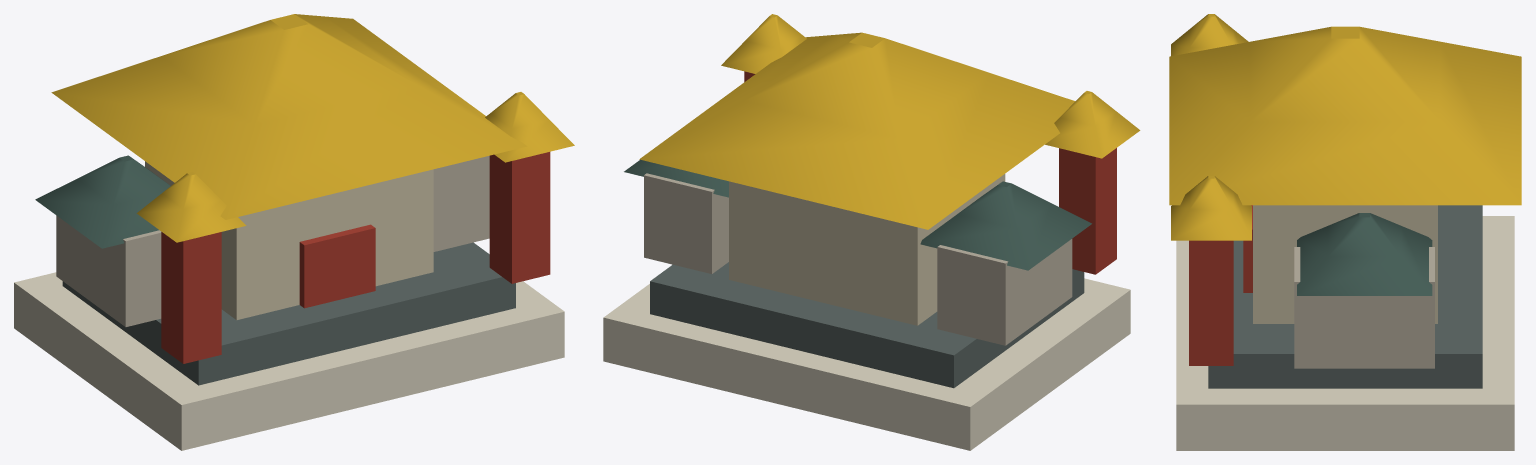
The model's file is wang_chao_di_du.glb.
The picture shows the model from 3 angles, left to right: view 1: azimuth 30°, elevation 25°; view 2: azimuth 150°, elevation 25°; view 3: azimuth 270°, elevation 25°; orthographic projection. The views are drawn at different scales.
Visible parts, largest first — view 1: _MeshInstance3D_128, _MeshInstance3D_125, _MeshInstance3D_126, _MeshInstance3D_127, _MeshInstance3D_129, _MeshInstance3D_135, _MeshInstance3D_131, _MeshInstance3D_130, _MeshInstance3D_137, _MeshInstance3D_133, _MeshInstance3D_132, _MeshInstance3D_136; view 2: _MeshInstance3D_128, _MeshInstance3D_125, _MeshInstance3D_127, _MeshInstance3D_126, _MeshInstance3D_129, _MeshInstance3D_130, _MeshInstance3D_133, _MeshInstance3D_131, _MeshInstance3D_132, _MeshInstance3D_136, _MeshInstance3D_134; view 3: _MeshInstance3D_128, _MeshInstance3D_125, _MeshInstance3D_126, _MeshInstance3D_133, _MeshInstance3D_134, _MeshInstance3D_127, _MeshInstance3D_135, _MeshInstance3D_136, _MeshInstance3D_132, _MeshInstance3D_137.
Boxes of the visible parts, x1=… form: _MeshInstance3D_128: x1=51, y1=14, x2=527, y2=219; _MeshInstance3D_125: x1=14, y1=272, x2=564, y2=450; _MeshInstance3D_126: x1=62, y1=242, x2=515, y2=385; _MeshInstance3D_127: x1=145, y1=161, x2=433, y2=320; _MeshInstance3D_129: x1=56, y1=215, x2=161, y2=326; _MeshInstance3D_135: x1=489, y1=152, x2=550, y2=283; _MeshInstance3D_131: x1=161, y1=232, x2=221, y2=363; _MeshInstance3D_130: x1=35, y1=155, x2=170, y2=248; _MeshInstance3D_137: x1=299, y1=224, x2=375, y2=308; _MeshInstance3D_133: x1=433, y1=155, x2=489, y2=251; _MeshInstance3D_132: x1=136, y1=172, x2=246, y2=242; _MeshInstance3D_136: x1=485, y1=92, x2=574, y2=162; _MeshInstance3D_128: x1=639, y1=32, x2=1075, y2=229; _MeshInstance3D_125: x1=603, y1=278, x2=1130, y2=450; _MeshInstance3D_127: x1=729, y1=174, x2=1005, y2=325; _MeshInstance3D_126: x1=650, y1=262, x2=1084, y2=388; _MeshInstance3D_129: x1=937, y1=239, x2=1072, y2=345; _MeshInstance3D_130: x1=920, y1=181, x2=1091, y2=270; _MeshInstance3D_133: x1=644, y1=173, x2=728, y2=273; _MeshInstance3D_131: x1=1059, y1=148, x2=1116, y2=274; _MeshInstance3D_132: x1=1045, y1=91, x2=1140, y2=158; _MeshInstance3D_136: x1=721, y1=14, x2=806, y2=73; _MeshInstance3D_134: x1=624, y1=159, x2=728, y2=197; _MeshInstance3D_128: x1=1169, y1=26, x2=1521, y2=205; _MeshInstance3D_125: x1=1176, y1=216, x2=1514, y2=450; _MeshInstance3D_126: x1=1208, y1=205, x2=1482, y2=388; _MeshInstance3D_133: x1=1294, y1=247, x2=1434, y2=368; _MeshInstance3D_134: x1=1297, y1=213, x2=1432, y2=295; _MeshInstance3D_127: x1=1253, y1=205, x2=1437, y2=323; _MeshInstance3D_135: x1=1189, y1=240, x2=1233, y2=365; _MeshInstance3D_136: x1=1171, y1=176, x2=1251, y2=240; _MeshInstance3D_132: x1=1171, y1=14, x2=1248, y2=56; _MeshInstance3D_137: x1=1243, y1=205, x2=1252, y2=292.
Size of the model in its own units: 1.54 by 1.12 by 1.1.
